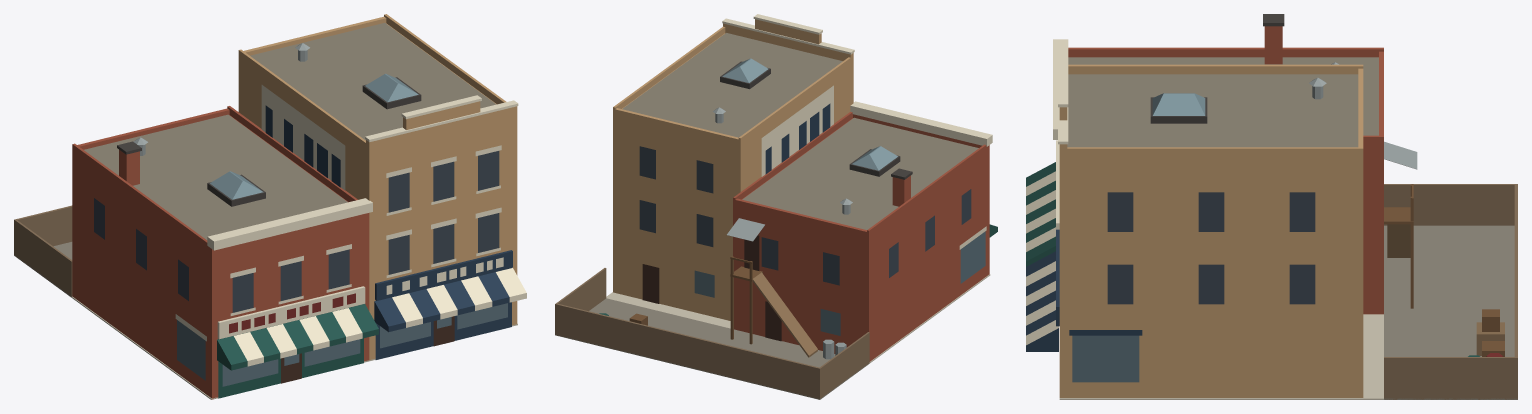
Rendered from highstreet_wa.glb.
The picture shows the model from 3 angles, left to right: view 1: azimuth 30°, elevation 25°; view 2: azimuth 150°, elevation 25°; view 3: azimuth 270°, elevation 25°; orthographic projection. The views are drawn at different scales.
Visible parts, largest first — view 1: highstreet_wa; view 2: highstreet_wa; view 3: highstreet_wa.
Part boxes in pixels (<box>): highstreet_wa: <box>14,14,526,399</box>; highstreet_wa: <box>555,14,997,399</box>; highstreet_wa: <box>1026,14,1517,399</box>.
Size of the model in its own units: 18 by 13.24 by 21.49.
